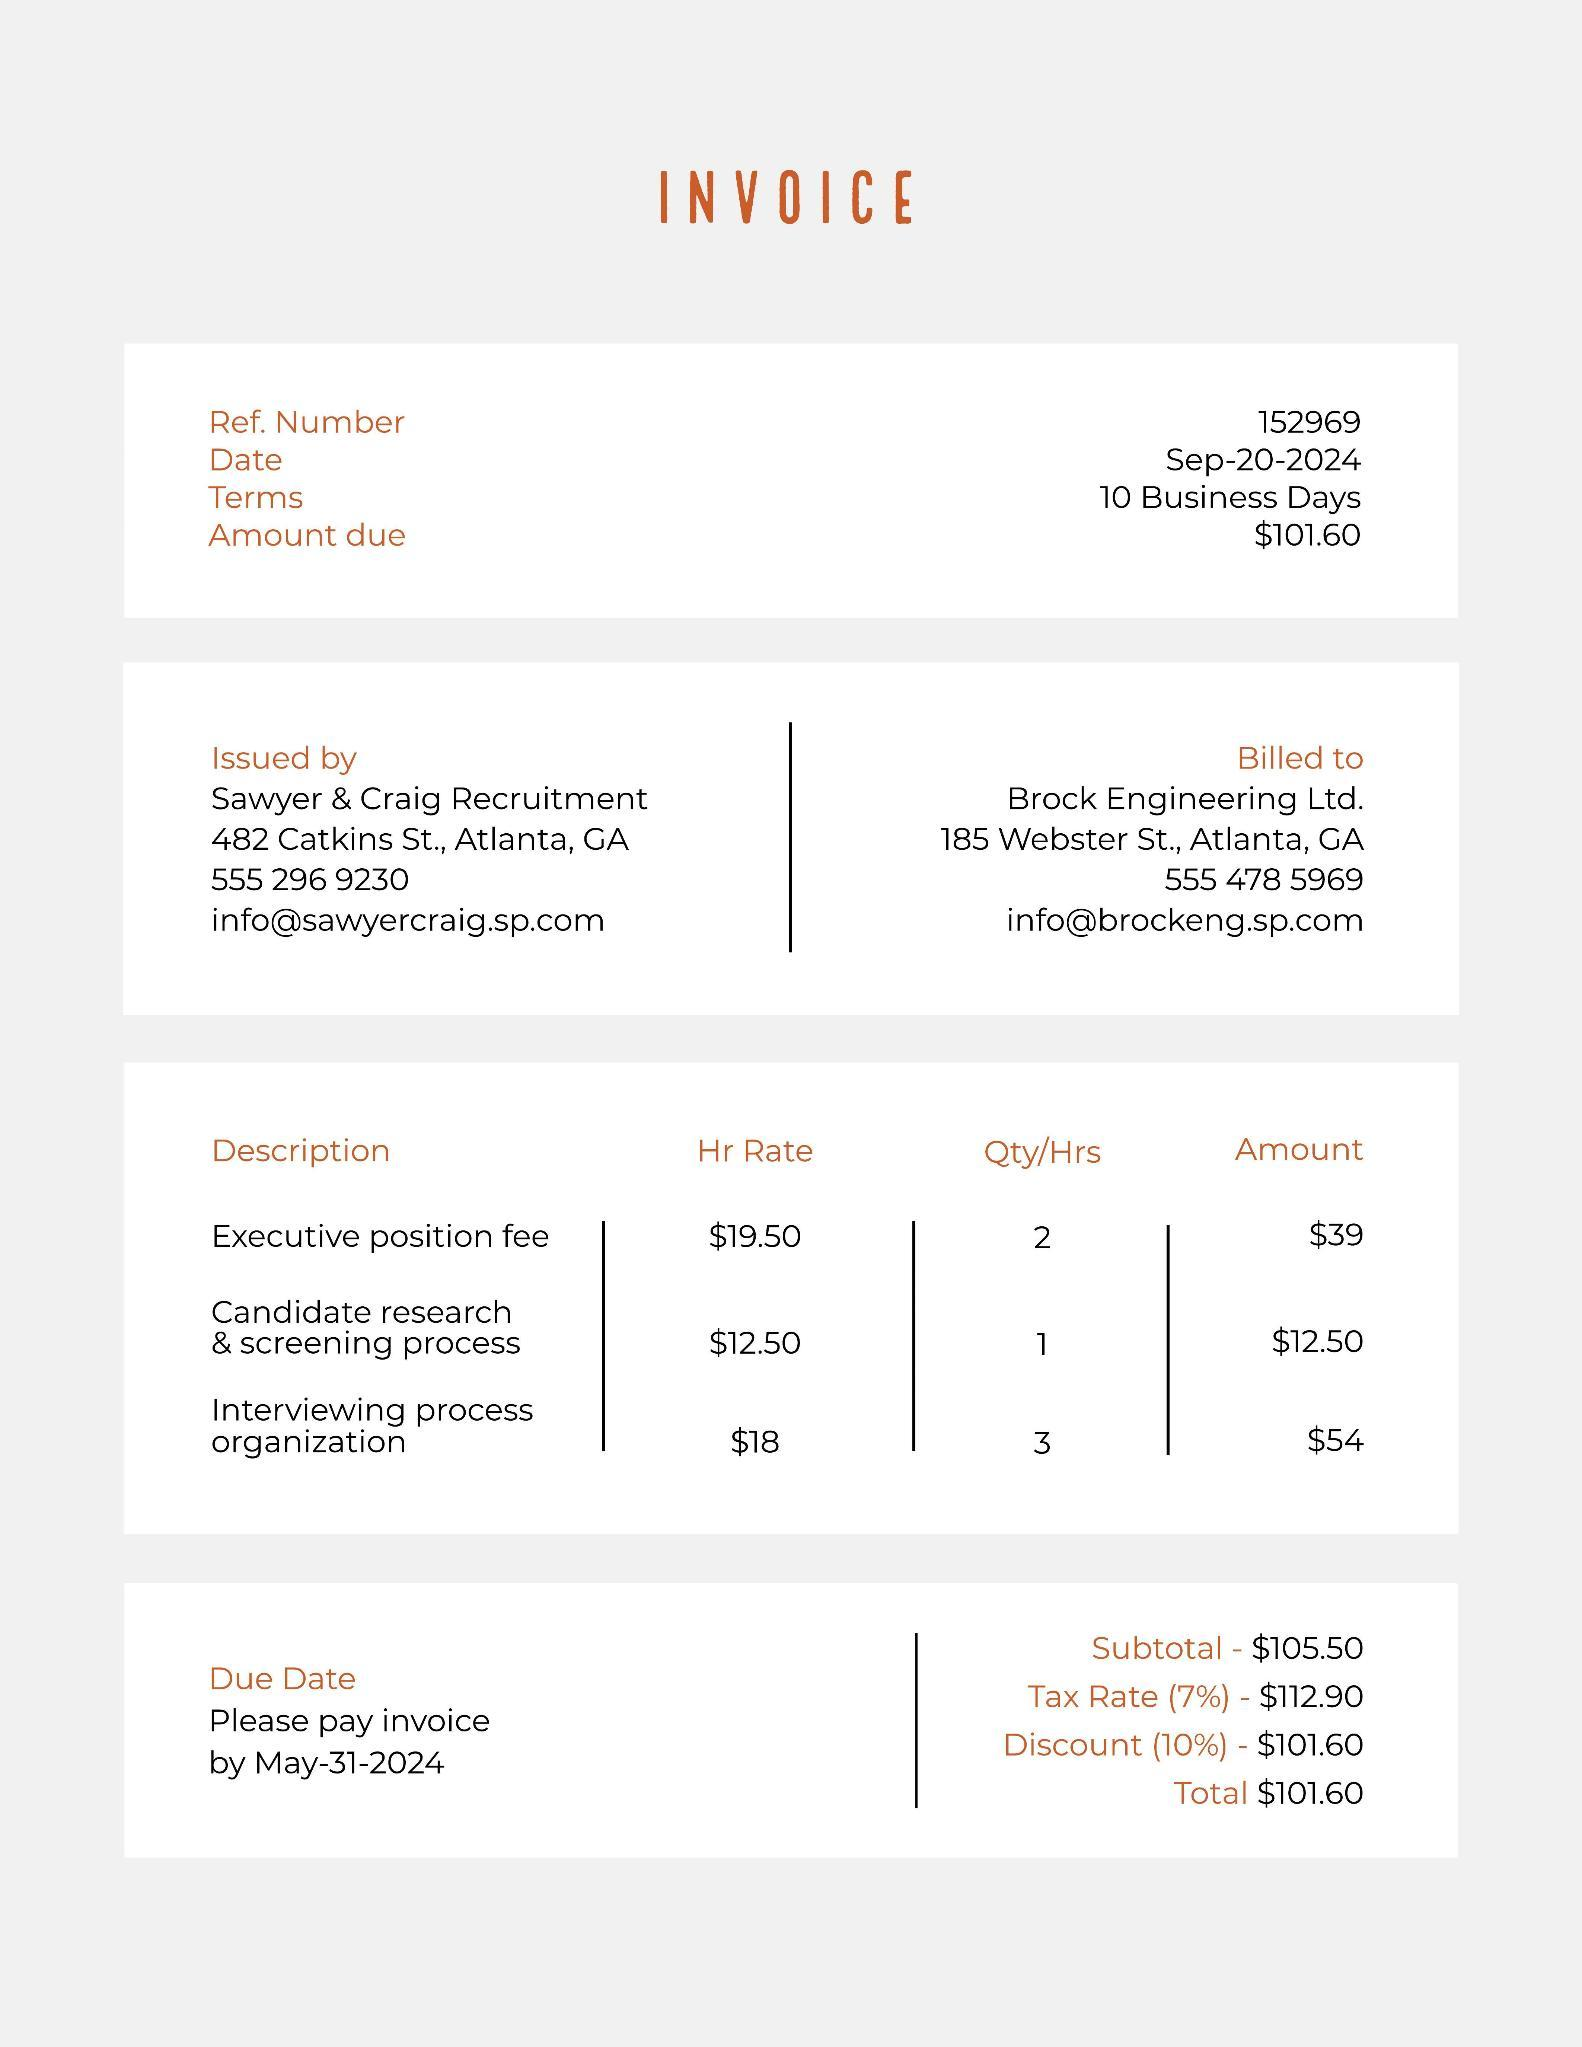ROI: (191, 1130, 1388, 1465), (196, 725, 1380, 969), (190, 394, 1370, 564), (995, 1626, 1371, 1816), (193, 1641, 516, 1784), (633, 155, 930, 243)
